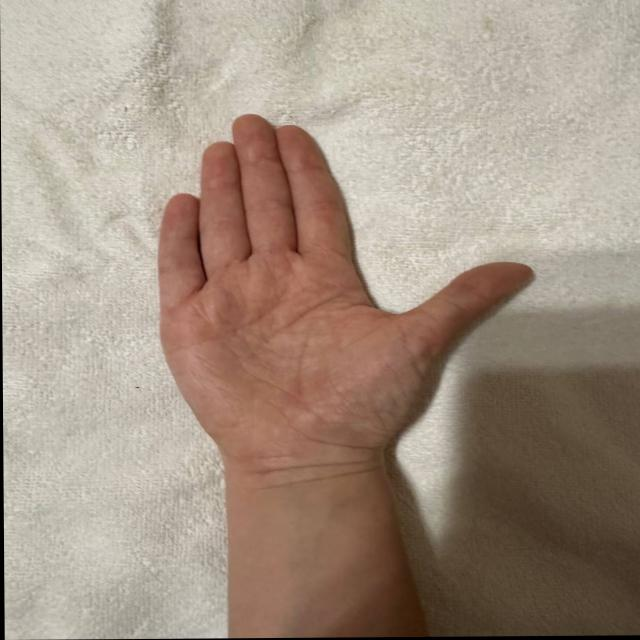v: (143, 113, 547, 436)
